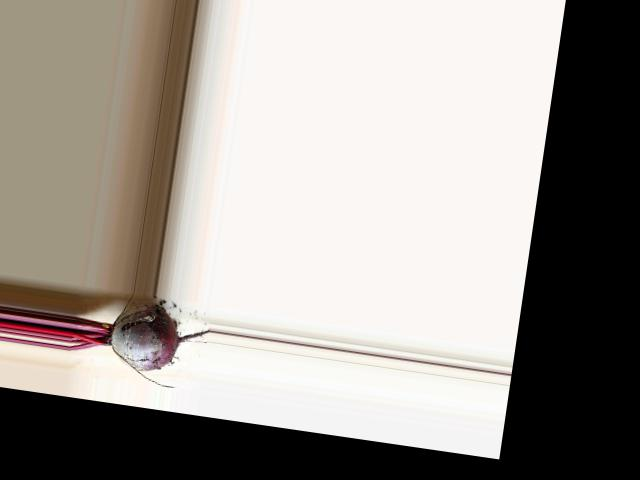beet: (67, 294, 213, 392)
